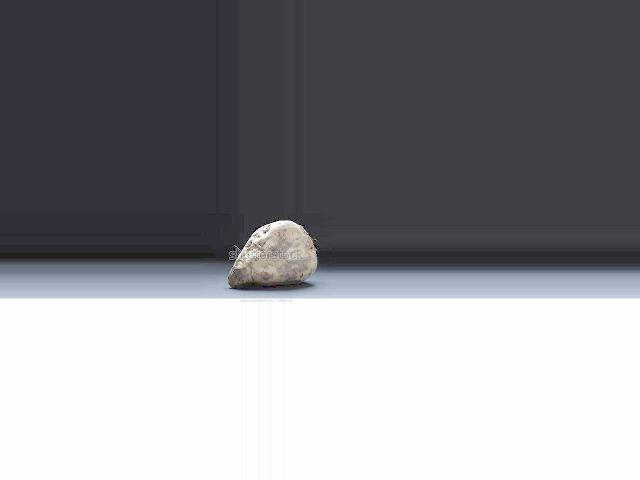beet: (229, 221, 318, 287)
